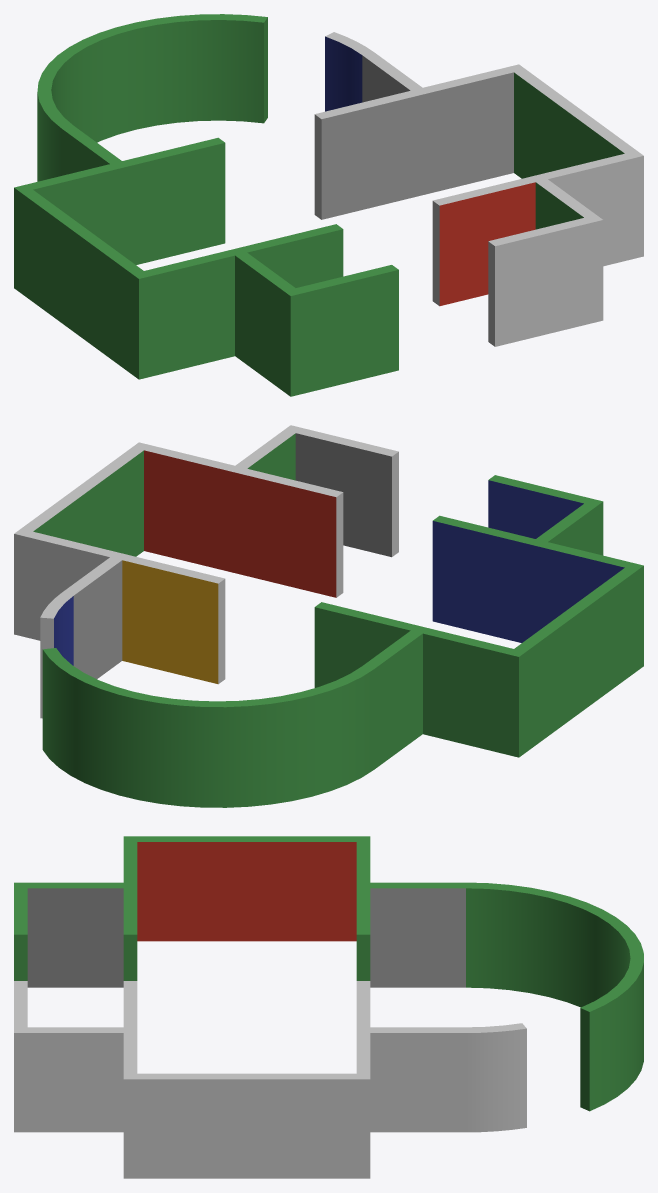
File: house.dae
3 views of the same model, one above another, from view 1: azimuth 30°, elevation 25°; view 2: azimuth 150°, elevation 25°; view 3: azimuth 270°, elevation 25° (orthographic).
Parts seen in each view (by area): view 1: Body1_Paint_-_Metallic_(Green), Body2_Oak_-_Semigloss, Body2_Steel_-_Satin, Body2_Paint_-_Metallic_(Red), Body2_Paint_-_Metallic_(Green), Body2_Paint_-_Enamel_Glossy_(Blue); view 2: Body1_Paint_-_Metallic_(Green), Body2_Paint_-_Metallic_(Red), Body1_Paint_-_Enamel_Glossy_(Blue), Body2_Oak_-_Semigloss, Body2_Paint_-_Metallic_(Yellow), Body2_Aluminum_-_Anodized_Glossy_(Grey), Body2_Paint_-_Metallic_(Green), Body2_Steel_-_Satin, Body2_Paint_-_Enamel_Glossy_(Blue); view 3: Body2_Oak_-_Semigloss, Body1_Paint_-_Metallic_(Green), Body1_Paint_-_Metallic_(Red), Body1_Aluminum_-_Anodized_Glossy_(Grey), Body1_Steel_-_Satin.
Boxes of the visible parts, bbox=[...] form: Body1_Paint_-_Metallic_(Green): bbox=[14, 14, 398, 396]; Body2_Oak_-_Semigloss: bbox=[314, 32, 643, 346]; Body2_Steel_-_Satin: bbox=[321, 55, 513, 219]; Body2_Paint_-_Metallic_(Red): bbox=[439, 182, 535, 305]; Body2_Paint_-_Metallic_(Green): bbox=[514, 72, 624, 229]; Body2_Paint_-_Enamel_Glossy_(Blue): bbox=[325, 36, 362, 111]; Body1_Paint_-_Metallic_(Green): bbox=[42, 475, 643, 807]; Body2_Paint_-_Metallic_(Red): bbox=[144, 450, 336, 597]; Body1_Paint_-_Enamel_Glossy_(Blue): bbox=[432, 480, 624, 642]; Body2_Oak_-_Semigloss: bbox=[14, 425, 398, 718]; Body2_Paint_-_Metallic_(Yellow): bbox=[122, 560, 218, 683]; Body2_Aluminum_-_Anodized_Glossy_(Grey): bbox=[295, 433, 391, 557]; Body2_Paint_-_Metallic_(Green): bbox=[33, 433, 295, 556]; Body2_Steel_-_Satin: bbox=[73, 560, 122, 678]; Body2_Paint_-_Enamel_Glossy_(Blue): bbox=[54, 596, 73, 665]; Body2_Oak_-_Semigloss: bbox=[14, 981, 526, 1178]; Body1_Paint_-_Metallic_(Green): bbox=[14, 836, 643, 1111]; Body1_Paint_-_Metallic_(Red): bbox=[137, 842, 356, 941]; Body1_Aluminum_-_Anodized_Glossy_(Grey): bbox=[27, 888, 123, 987]; Body1_Steel_-_Satin: bbox=[370, 888, 465, 987].
Bounding box in the file's own units: 21 × 22.99 × 4.
